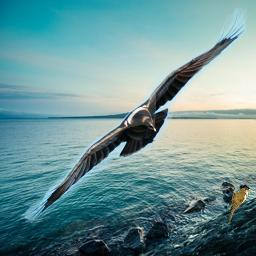Crow: (20, 8, 251, 223)
Cuckoo: (228, 187, 251, 226)
